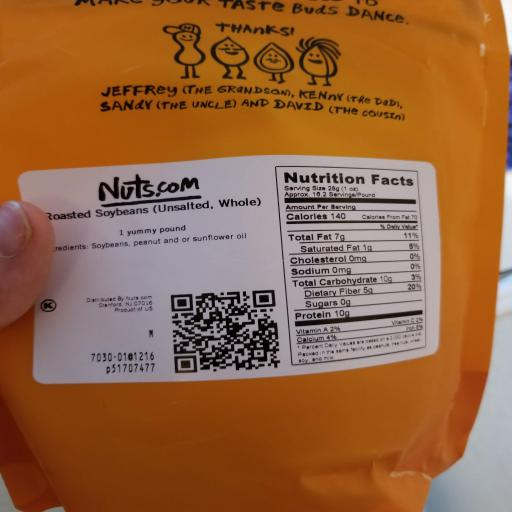QR_CODE: (159, 281, 289, 377)
